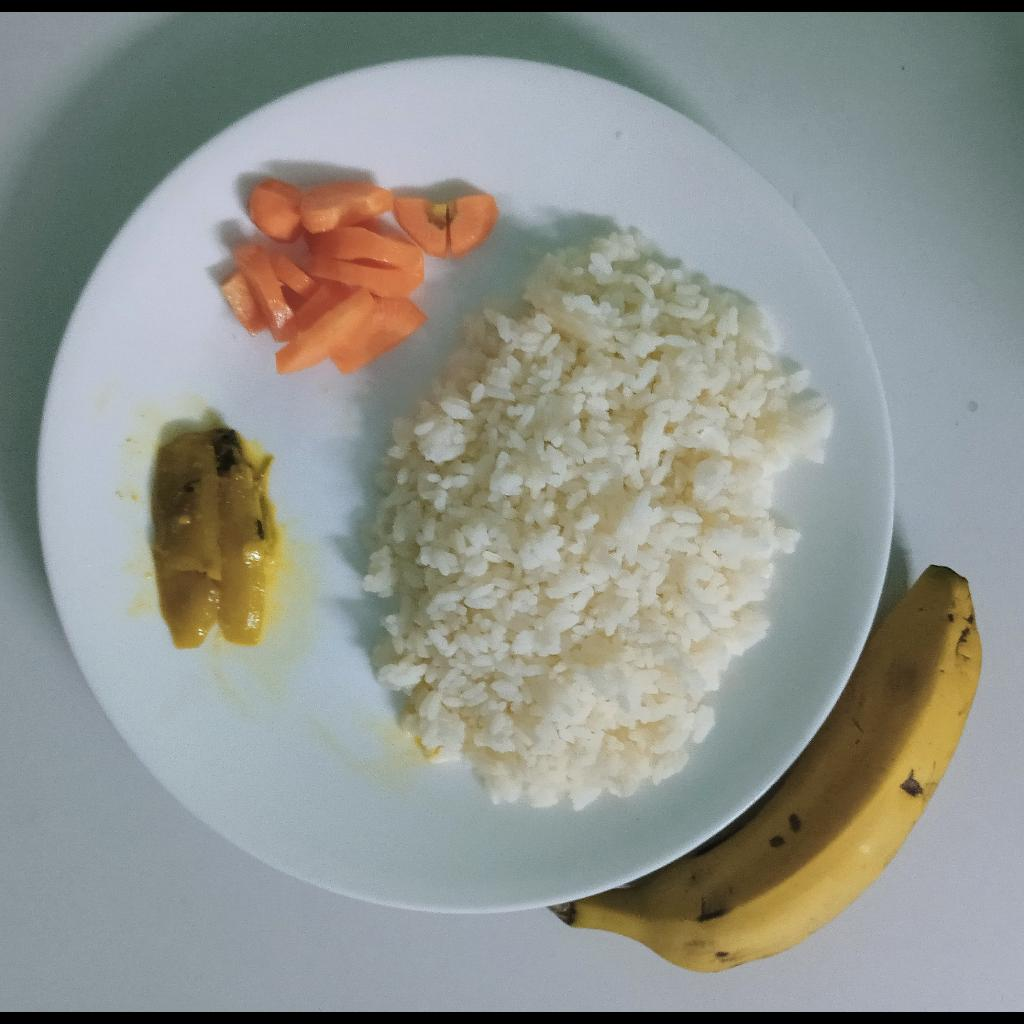banana: (547, 565, 982, 974)
carrot: (219, 176, 501, 378)
potol: (149, 428, 281, 647)
rice: (358, 229, 834, 804)
